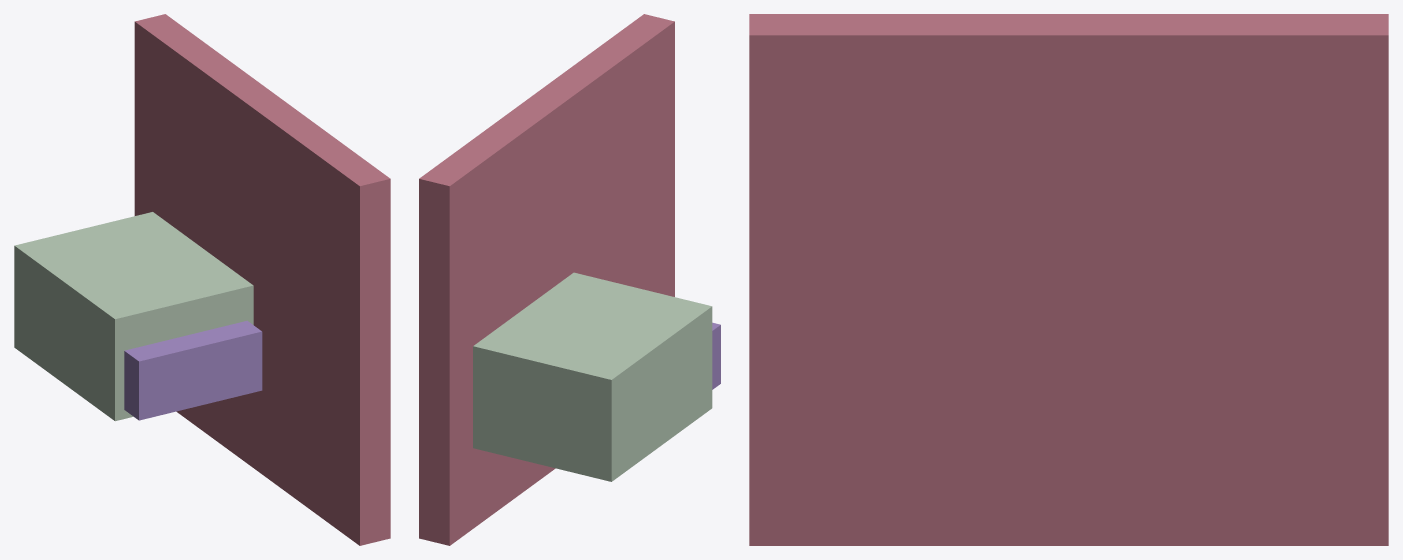
3 views of the same model, side by side, from view 1: azimuth 30°, elevation 25°; view 2: azimuth 150°, elevation 25°; view 3: azimuth 270°, elevation 25° (orthographic). The views are drawn at different scales.
Visible parts, largest first — view 1: world; view 2: world; view 3: world.
Boxes of the visible parts, bbox=[...] form: world: bbox=[14, 14, 390, 545]; world: bbox=[419, 14, 720, 545]; world: bbox=[749, 14, 1388, 545].
Size of the model in its own units: 3.35 by 6.7 by 7.6.
